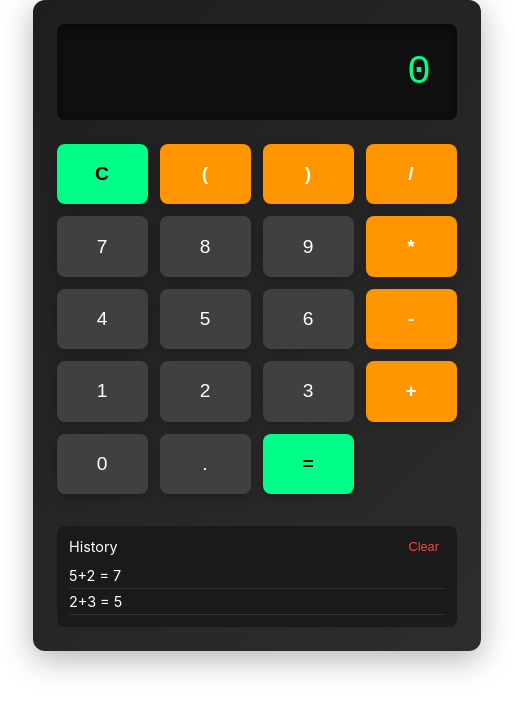
Test: Calculator integration › history updates after calculations and restores
Step 1. Click the button "2" → coordinates (206, 391), box [160, 361, 251, 422]
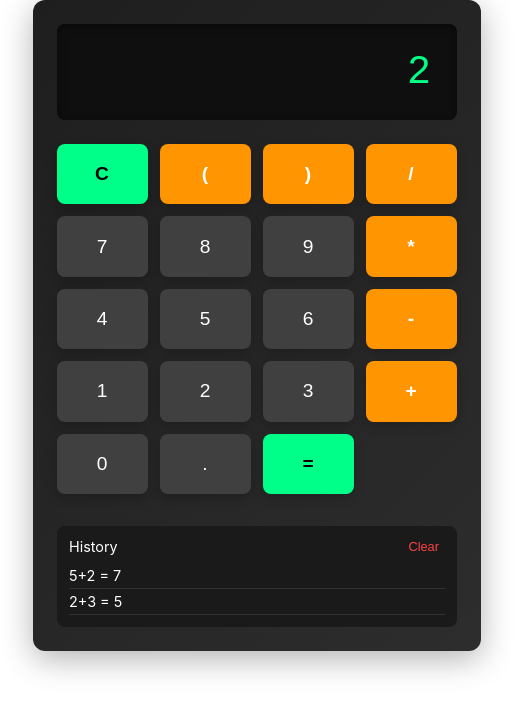
Step 2. Click the button "*" → coordinates (412, 247), box [366, 216, 457, 277]
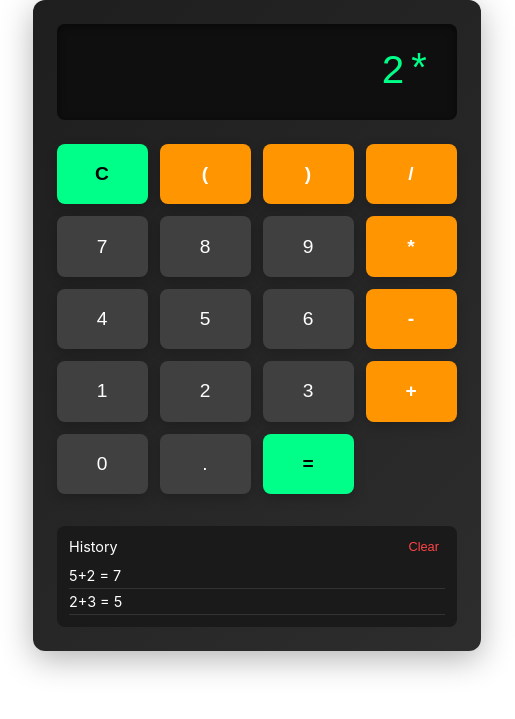
Step 3. Click the button "3" → coordinates (308, 391), box [263, 361, 354, 422]
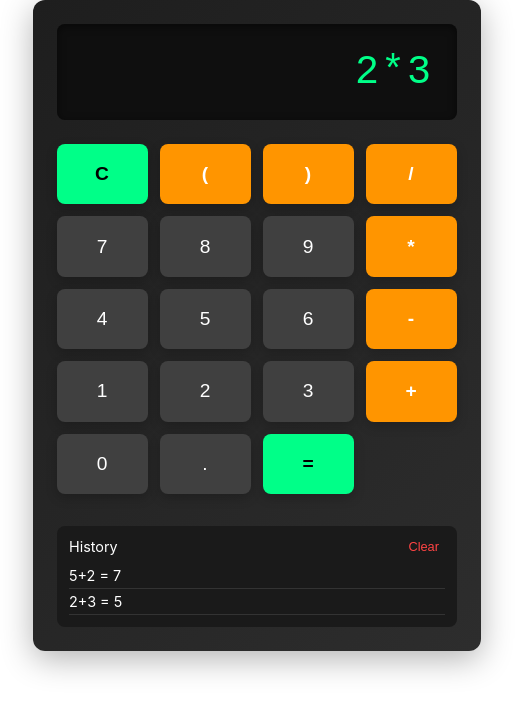
Step 4. Click the button "=" → coordinates (308, 464), box [263, 434, 354, 494]
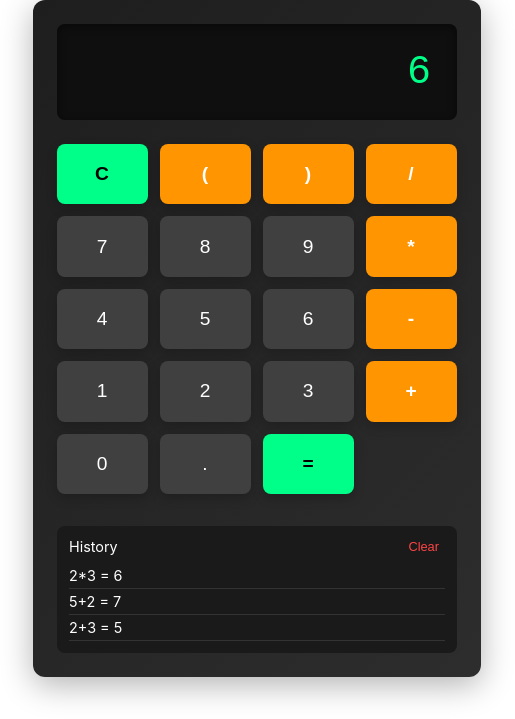
Expected: the list item "2*3 = 6" is shown
click history should restore expression
Step 5. Click the list item "2*3 = 6" → coordinates (257, 576), box [69, 563, 445, 589]
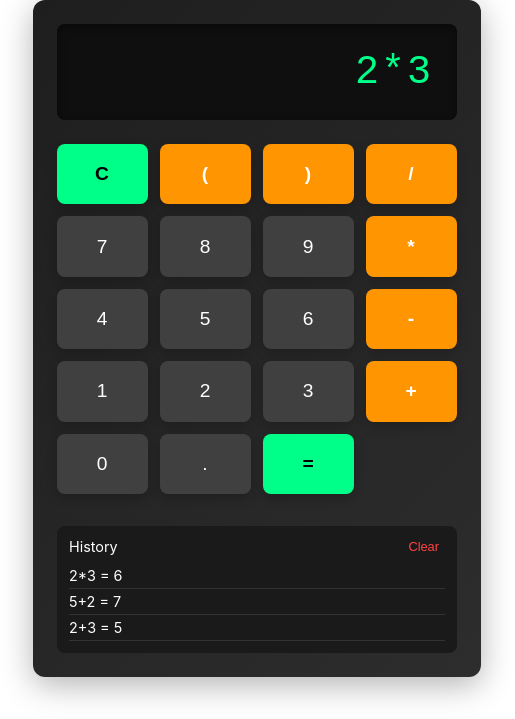
Expected: the text "2*3" is shown, [355, 50, 433, 94]
